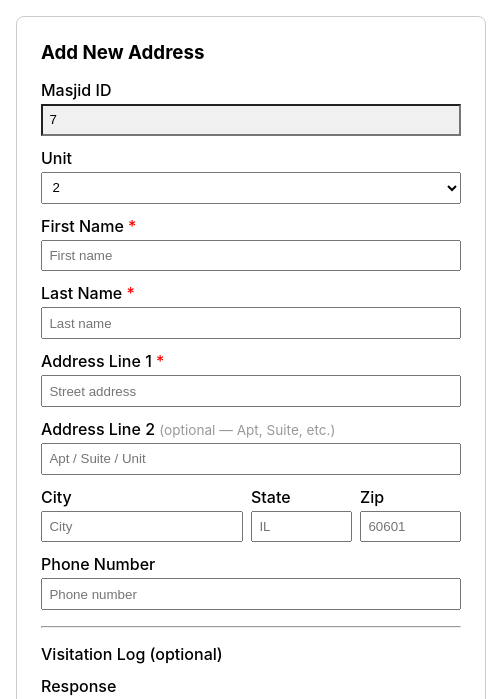
Test: AddAddress duplicate check › searches once after typing stops and lists only same-masjid matches
Type "123 main st" into the field with placeholder "Street address" at (251,391), box x1=41 y1=375 x2=461 y2=407
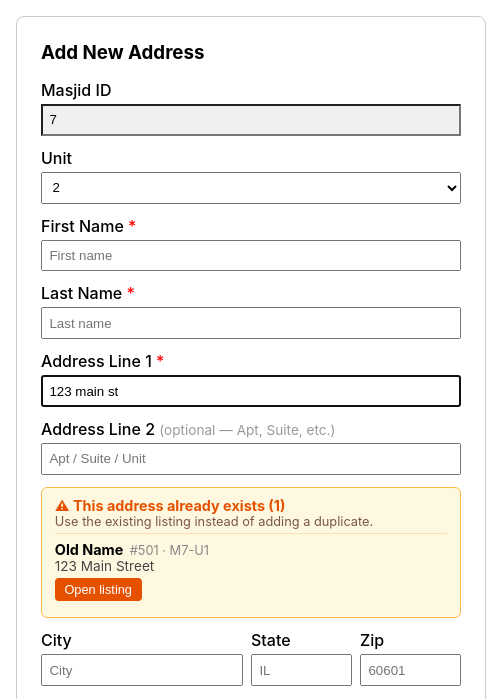
Now the text "⚠ This address already exists (1)" is shown, box x1=55 y1=497 x2=285 y2=514
Now the text "#501 · M7-U1" is shown, box x1=130 y1=543 x2=209 y2=558
